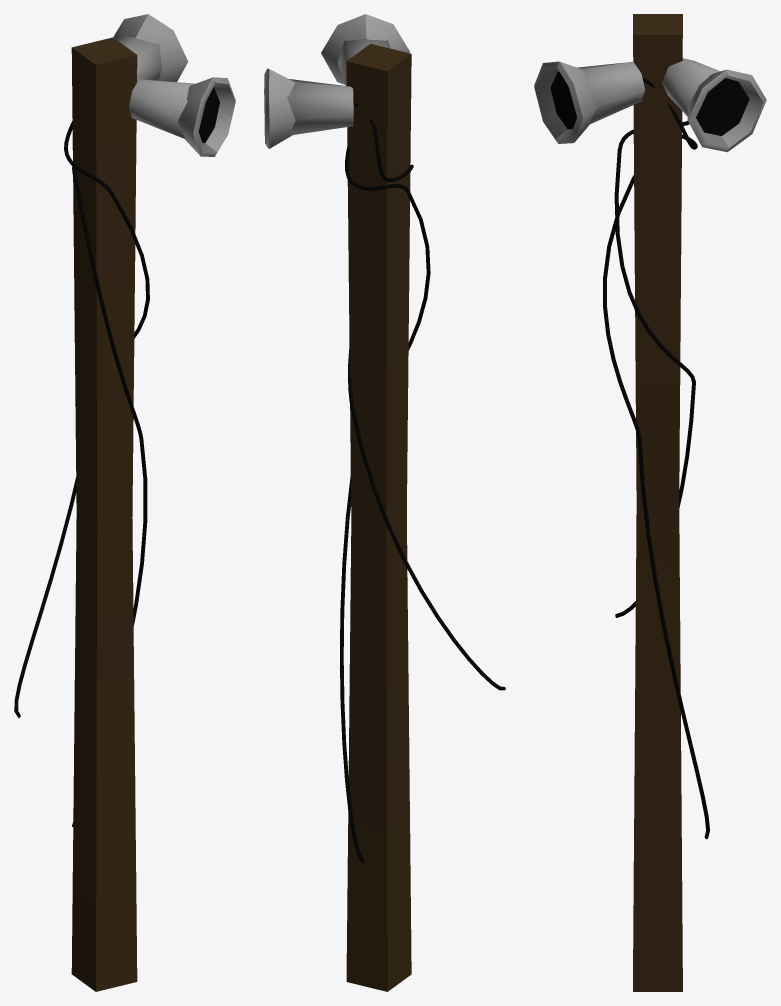
Rendered from Speaker Pole332.fbx.
3 renders of one model, left to right at view 1: azimuth 30°, elevation 25°; view 2: azimuth 150°, elevation 25°; view 3: azimuth 270°, elevation 25°, orthographic. The views are drawn at different scales.
Parts seen in each view (by area): view 1: BézierCurve.001; view 2: BézierCurve.001; view 3: BézierCurve.001.
Part boxes in pixels (<box>): BézierCurve.001: <box>14,14,235,991</box>; BézierCurve.001: <box>264,14,505,991</box>; BézierCurve.001: <box>534,14,766,991</box>.
Size of the model in its own units: 106 by 458 by 101.
4 materials, 1 textured.
